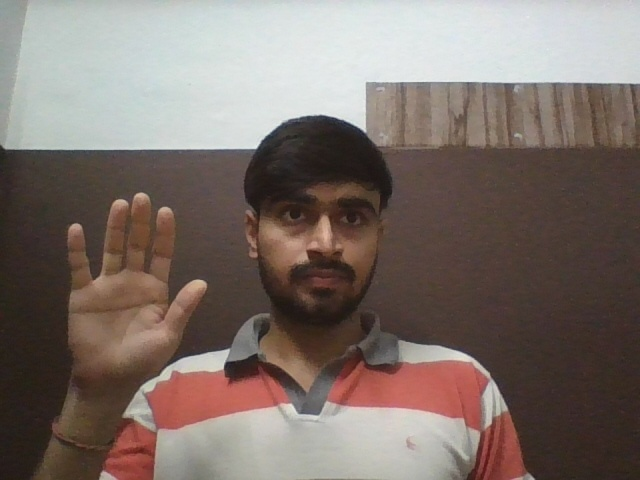Hello: (67, 191, 208, 399)
